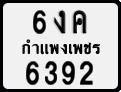letters: (59, 59, 76, 86), (78, 58, 94, 86), (24, 59, 40, 86), (31, 9, 47, 35), (43, 59, 58, 86), (72, 9, 88, 34), (53, 8, 67, 34)
province: (20, 38, 101, 56)
